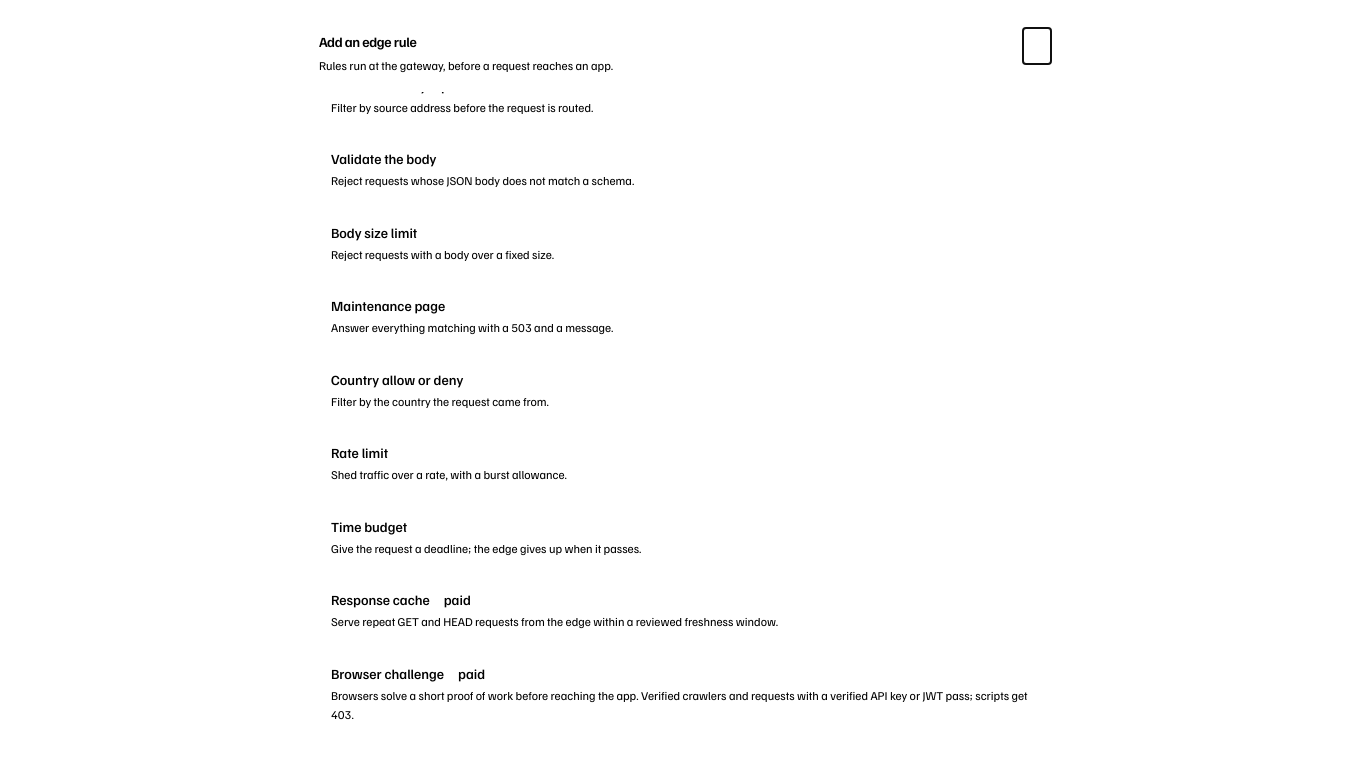
Test case: shows a permission rejection instead of silently closing a cache form
(page scrolled)
Step 1. Click the button "Response cache" → (380, 600), box x1=319 y1=578 x2=1047 y2=644
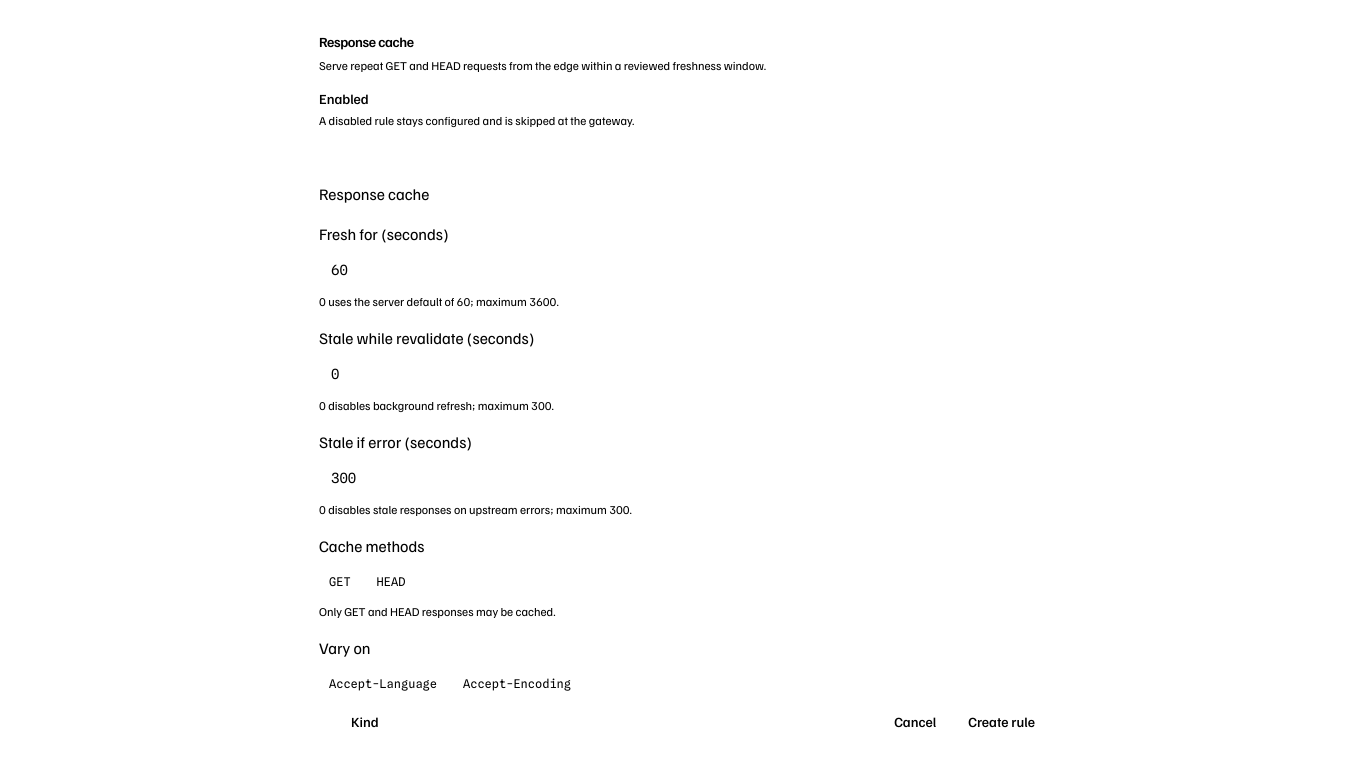
Step 2. Click the button "Create rule" → (1002, 722), box x1=956 y1=706 x2=1047 y2=738
(page scrolled)
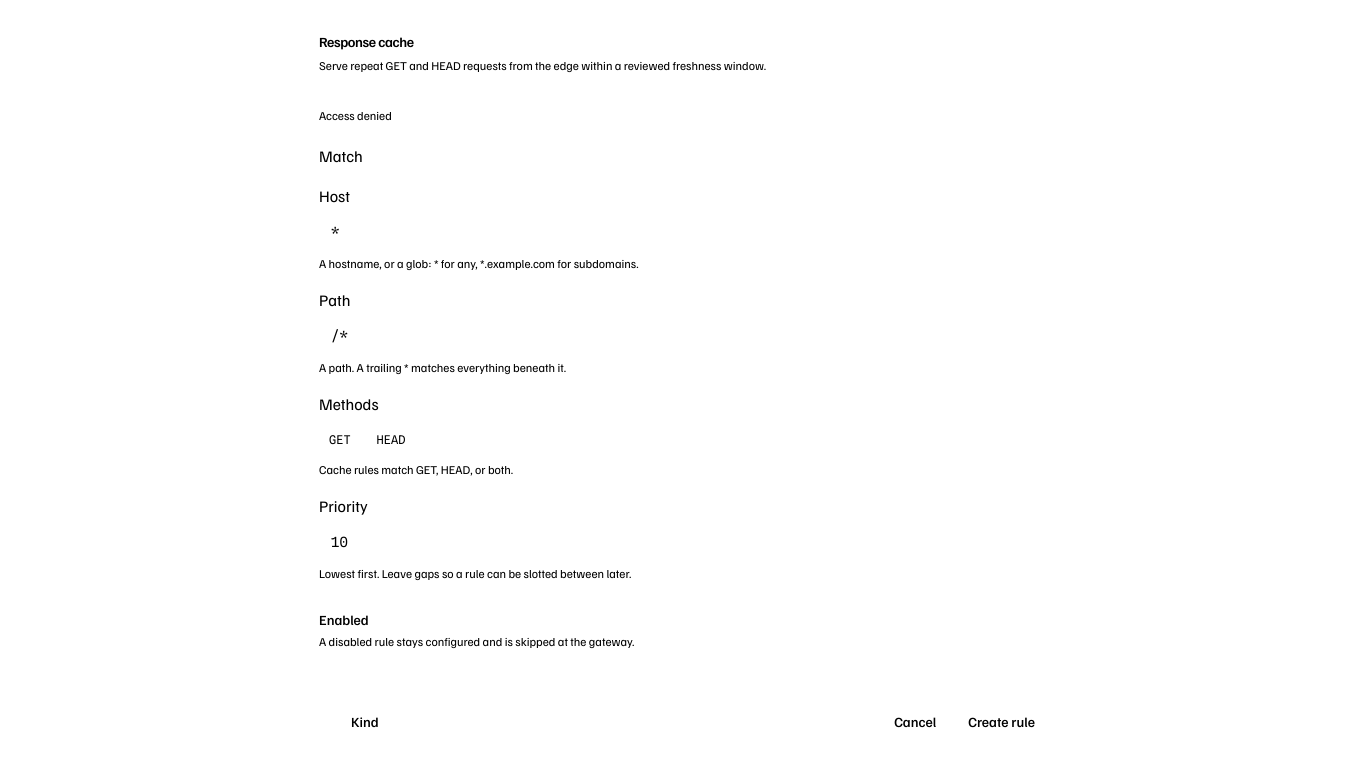
Check: the message reads "Access denied", box x1=319 y1=108 x2=392 y2=122
